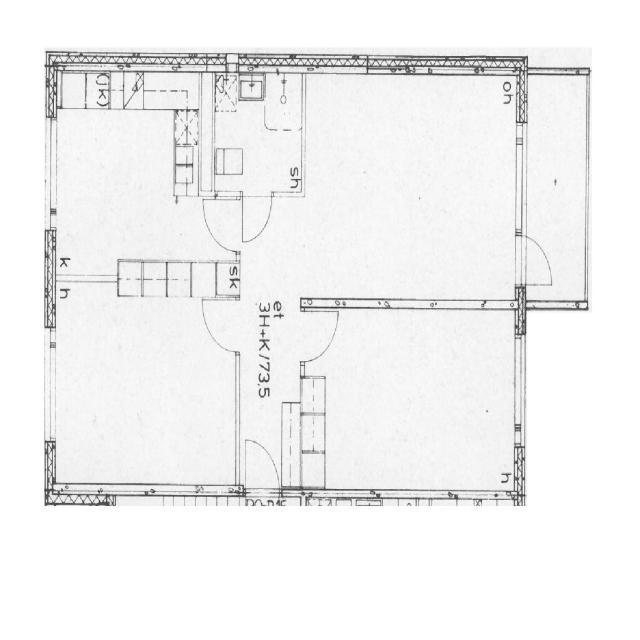door: (240, 434, 282, 502), (302, 299, 341, 365), (202, 194, 240, 255), (201, 297, 238, 355), (518, 233, 554, 292), (240, 190, 275, 247)
window: (40, 112, 62, 227), (40, 328, 61, 447), (510, 331, 530, 447), (512, 119, 530, 237), (453, 488, 502, 509)
zone: (304, 74, 520, 496), (51, 284, 236, 492), (53, 59, 197, 281), (198, 72, 304, 198)
